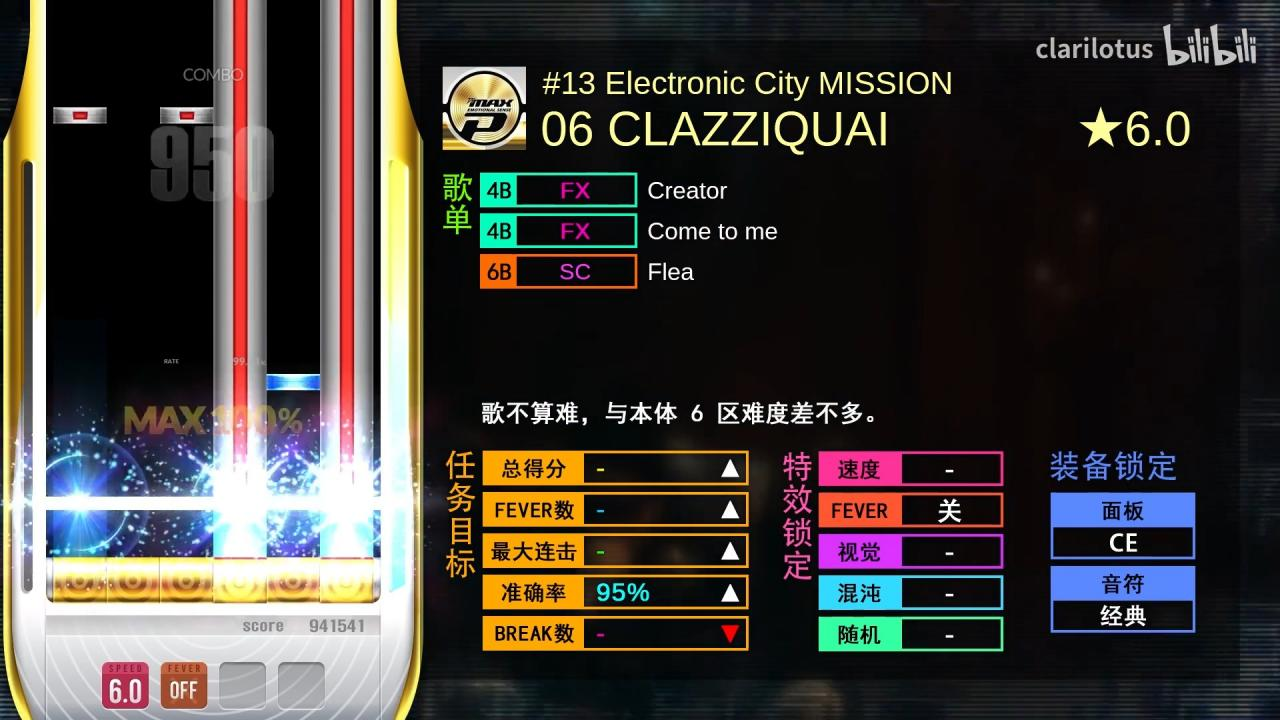note: (267, 373, 322, 391), (53, 106, 107, 124), (159, 108, 214, 123)
